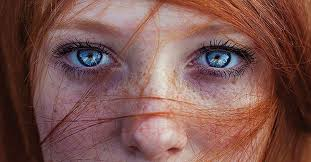pupil: (76, 48, 102, 66), (206, 49, 230, 67)
